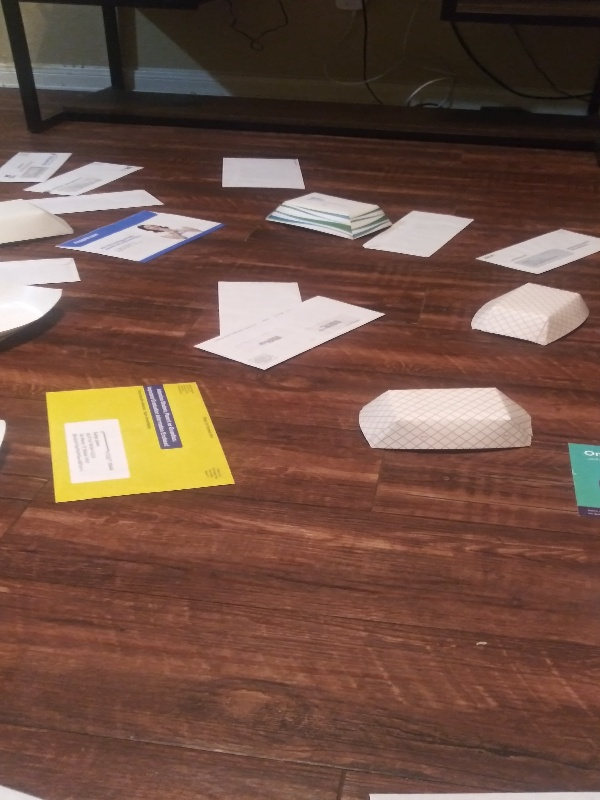plate: (352, 384, 535, 454), (465, 280, 594, 348), (261, 189, 397, 245), (1, 274, 66, 351), (1, 197, 78, 251)
